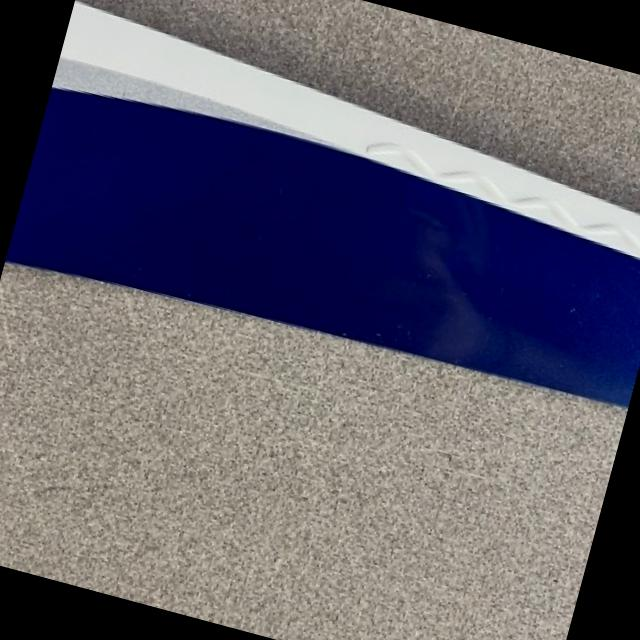healthy: (6, 0, 640, 402), (0, 262, 624, 640)
